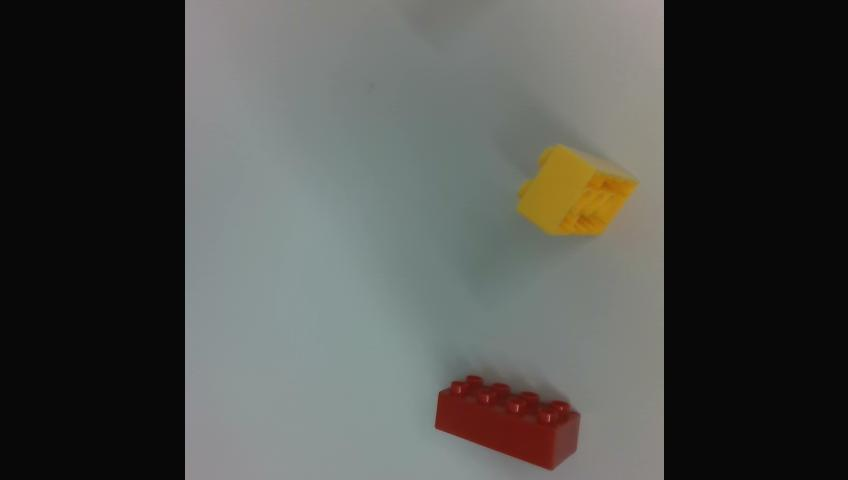4x2_red: (437, 376, 579, 469)
4x2_yellow: (517, 144, 638, 234)
